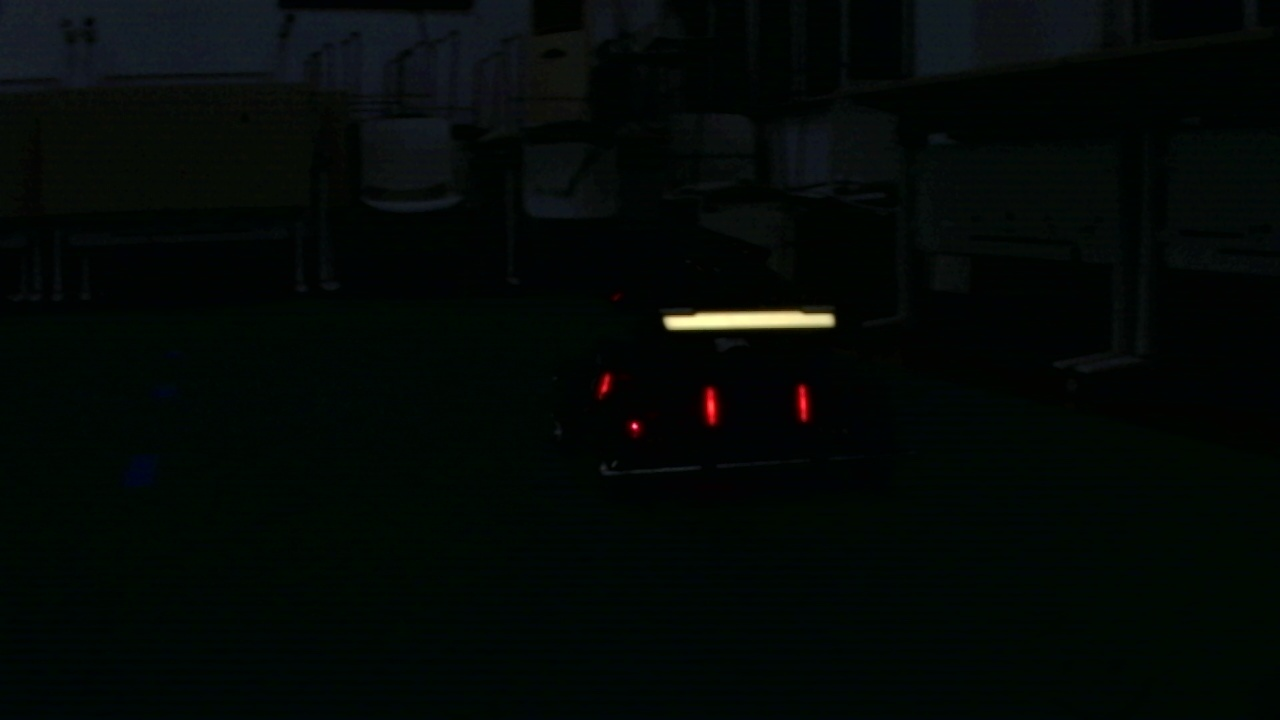lamp: (791, 385, 811, 424), (703, 387, 719, 428)
pair1: (703, 387, 810, 422)
